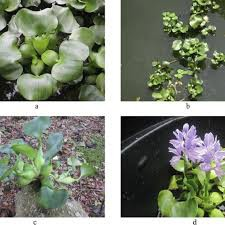water_hyacinth: (0, 1, 105, 100), (0, 117, 97, 208), (147, 1, 224, 100), (159, 124, 225, 216)
